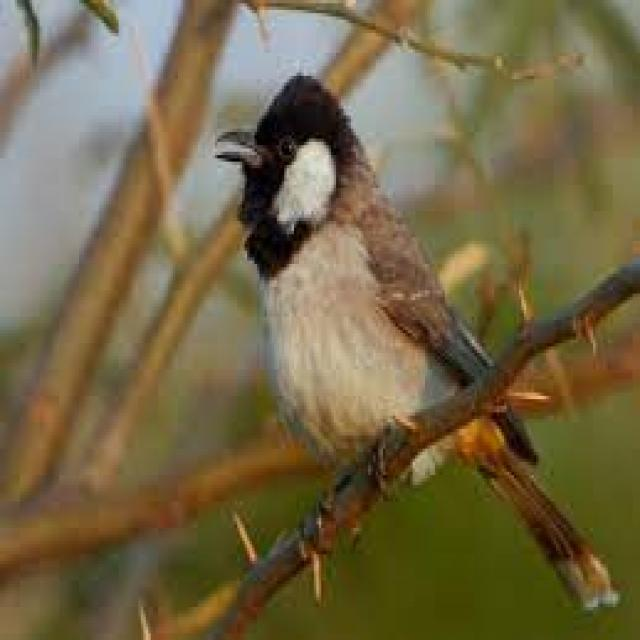bird: (213, 69, 622, 615)
